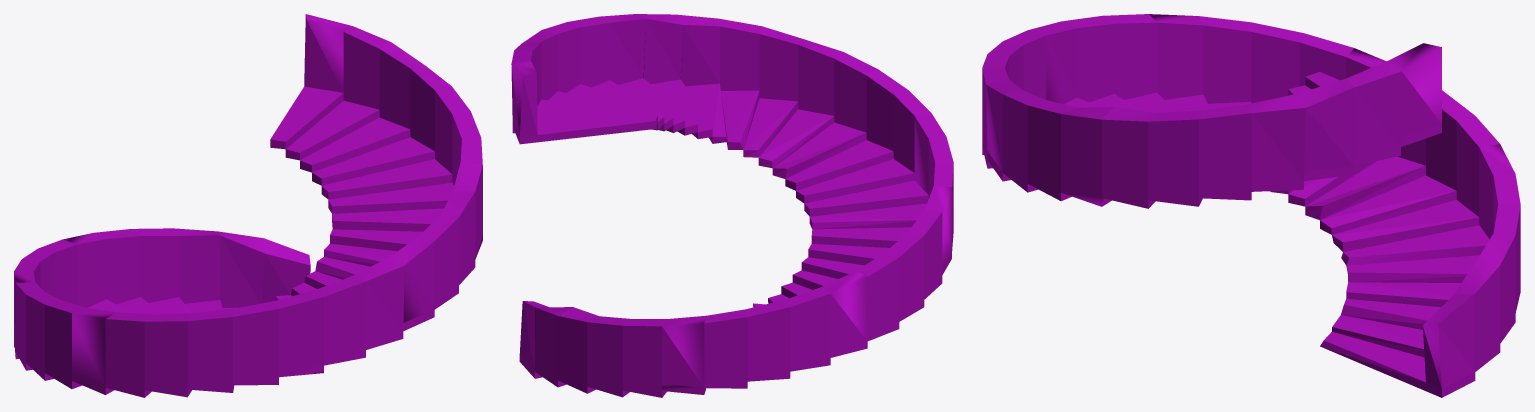
Rendered from Stairs.gltf.
3 renders of one model, left to right at view 1: azimuth 30°, elevation 25°; view 2: azimuth 150°, elevation 25°; view 3: azimuth 270°, elevation 25°, orthographic. The views are drawn at different scales.
Visible parts, largest first — view 1: Stairs; view 2: Stairs; view 3: Stairs.
Part boxes in pixels (x1,y1,x2,y2): Stairs: (14, 14, 482, 397); Stairs: (511, 14, 953, 397); Stairs: (982, 14, 1520, 397).
Size of the model in its own units: 2 by 1.43 by 2.
Materials: 1 (1 with a texture image).
